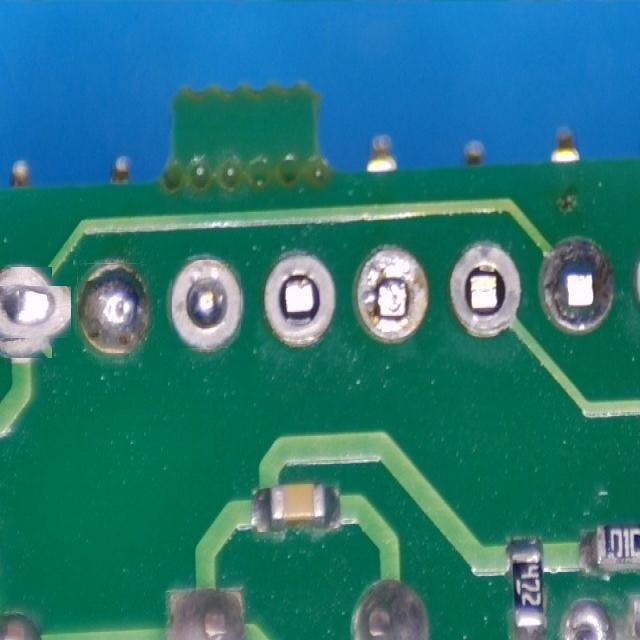Dry_joint: (77, 263, 147, 353), (171, 259, 241, 348), (0, 286, 71, 337)
